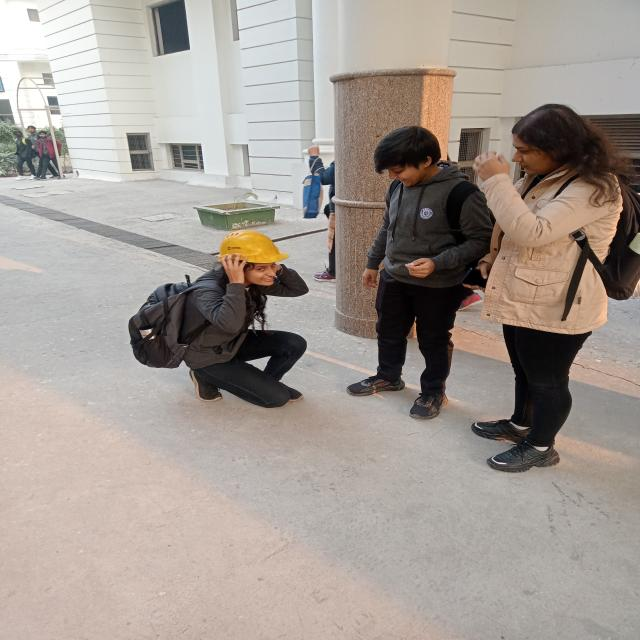no jacket: (178, 224, 316, 411)
unsafe: (479, 100, 632, 476), (354, 125, 481, 429), (35, 128, 63, 181), (12, 130, 34, 181)
